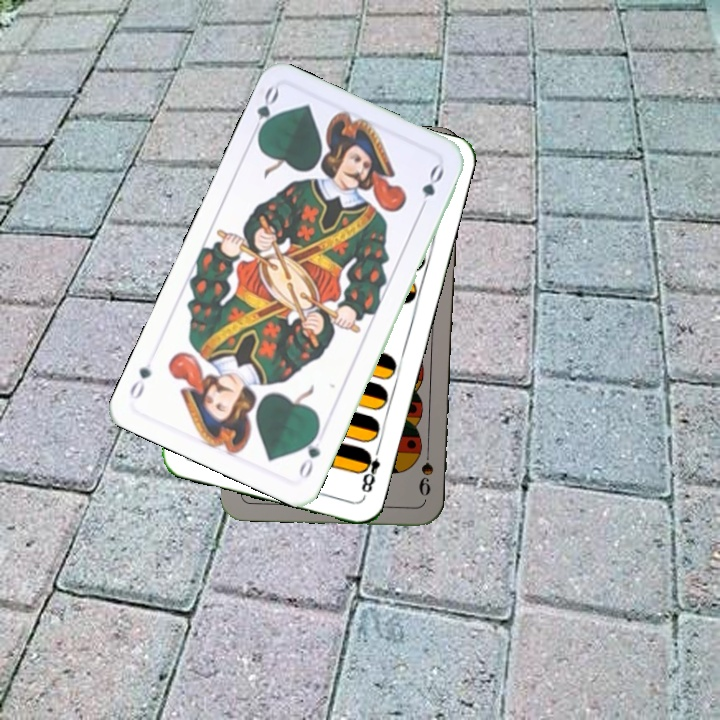E8: (355, 442, 383, 495)
GO: (247, 83, 282, 142), (294, 424, 323, 481)
S9: (415, 441, 436, 498)
